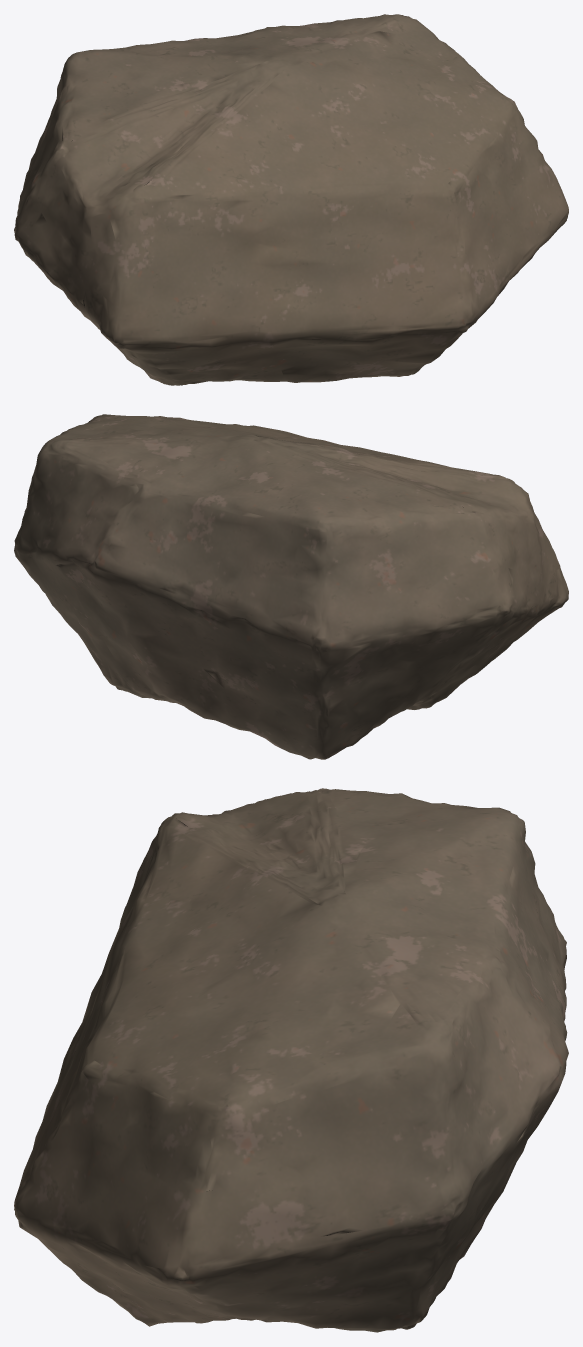
The model's file is ordinary_weathered_rock.fbx.
3 views of the same model, one above another, from view 1: azimuth 30°, elevation 25°; view 2: azimuth 150°, elevation 25°; view 3: azimuth 270°, elevation 25° (orthographic). The views are drawn at different scales.
Visible parts, largest first — view 1: SDT_PhotoRock_B_Rock; view 2: SDT_PhotoRock_B_Rock; view 3: SDT_PhotoRock_B_Rock.
Part boxes in pixels (x1,y1,x2,y2): SDT_PhotoRock_B_Rock: [14, 14, 568, 385]; SDT_PhotoRock_B_Rock: [14, 414, 568, 759]; SDT_PhotoRock_B_Rock: [14, 788, 568, 1332].
Bounding box in the file's own units: 0.72 × 0.39 × 0.51.
1 material, 1 textured.
